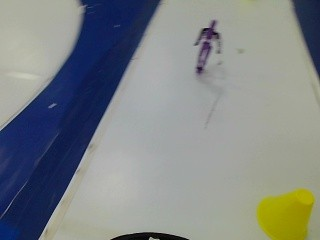cone: (250, 181, 318, 238)
pedestrian: (191, 17, 226, 80)
